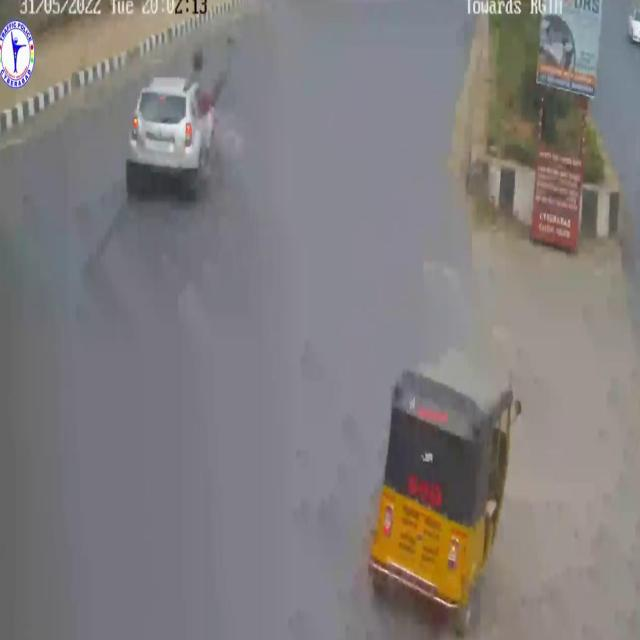accident: (120, 42, 242, 218)
